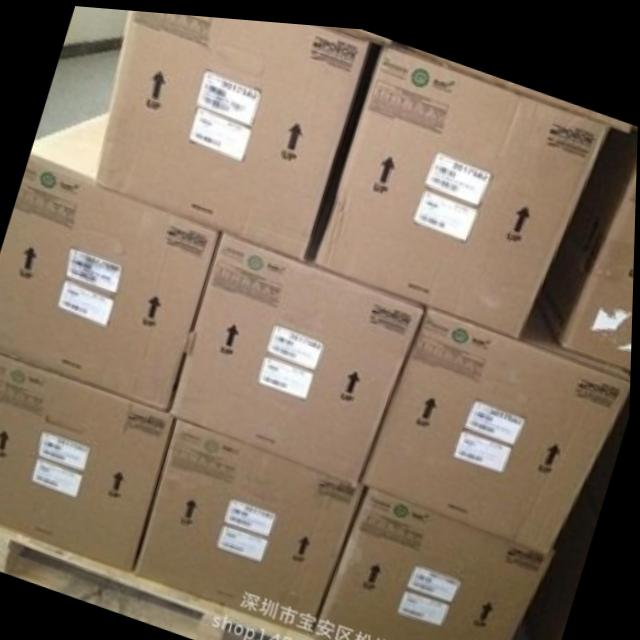box: (313, 36, 607, 330), (360, 297, 632, 545), (93, 8, 367, 254), (0, 108, 223, 408), (170, 226, 424, 479), (135, 415, 364, 631), (313, 478, 552, 640), (0, 351, 175, 570), (538, 118, 638, 358)
